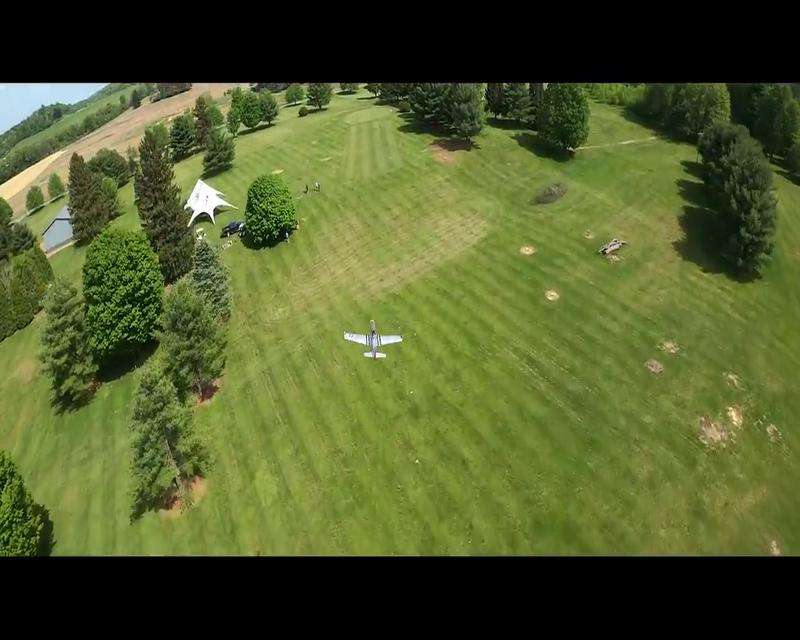UAV: (344, 320, 404, 360)
